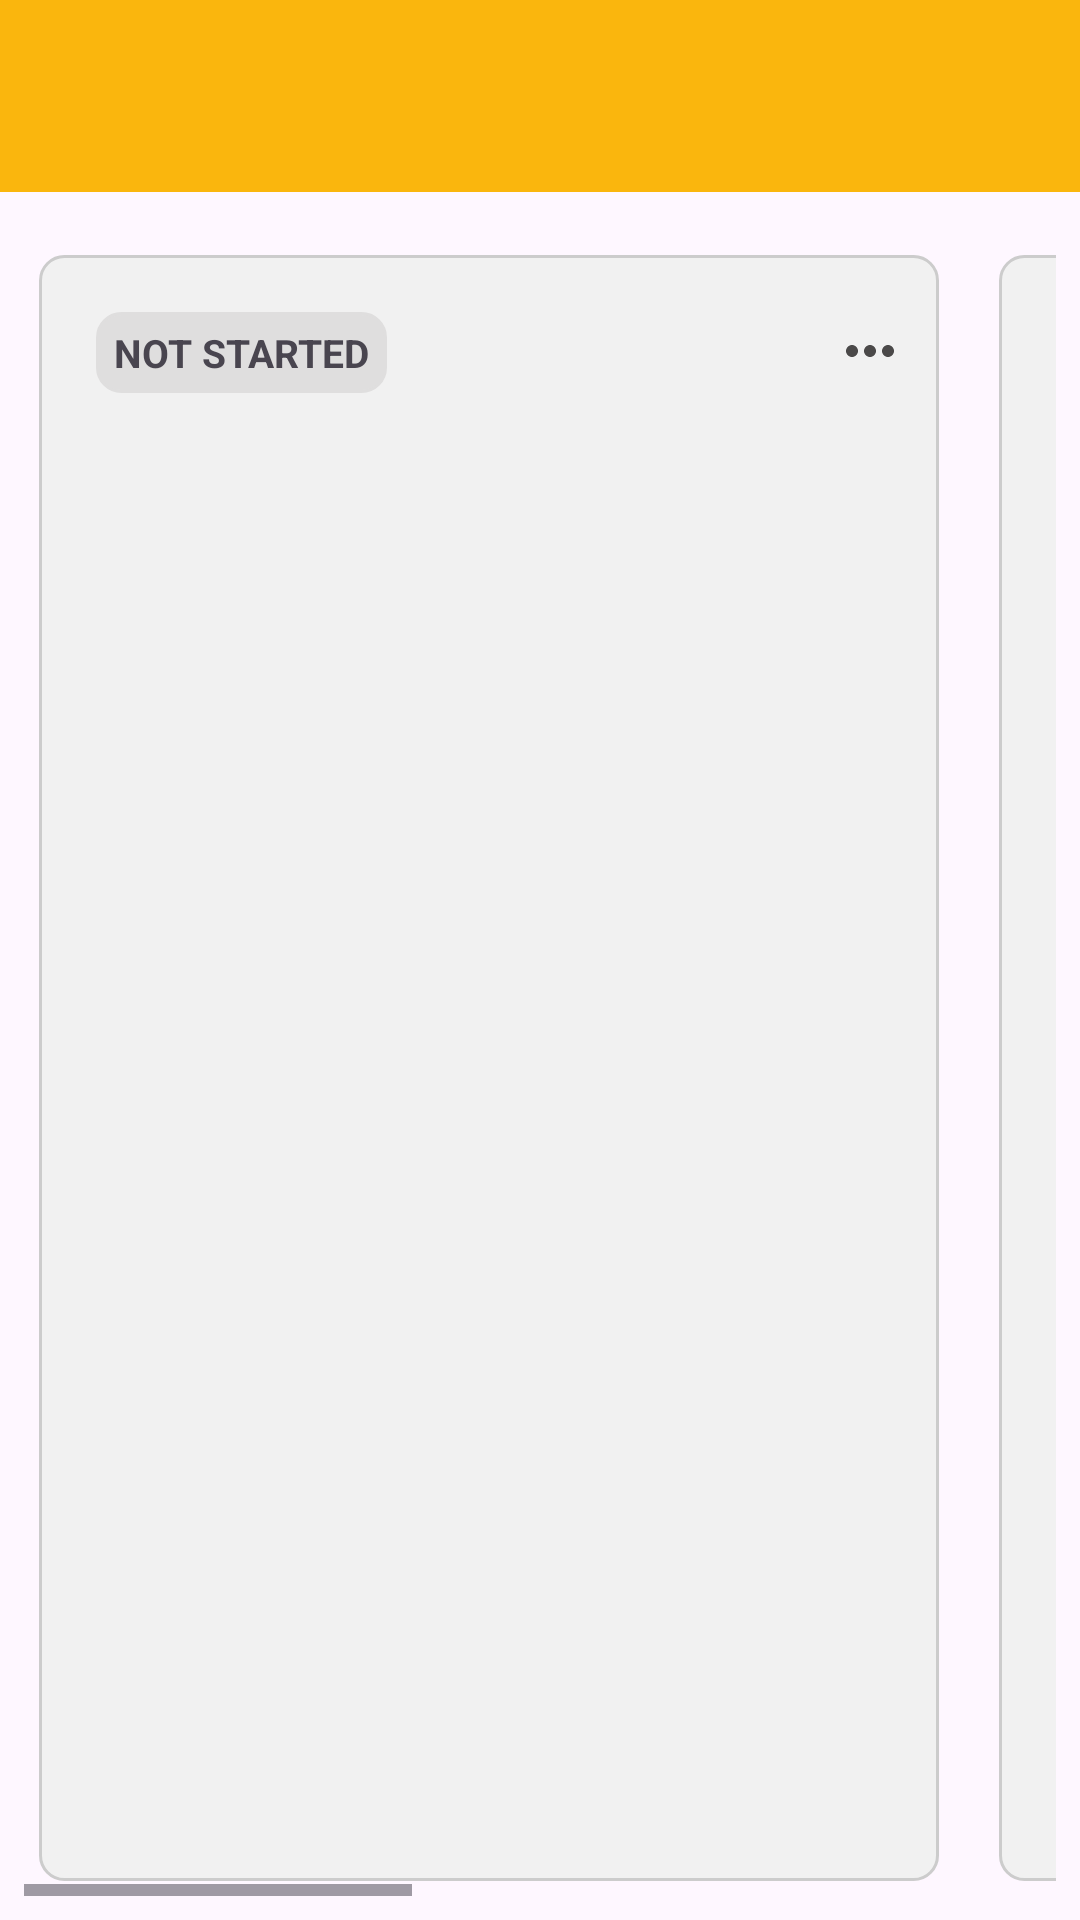

Icon bounding boxes for this 1080w x 1920h phone screenshot, format (x1, y1, x2, y2):
more bacham: (846, 345, 894, 357)
